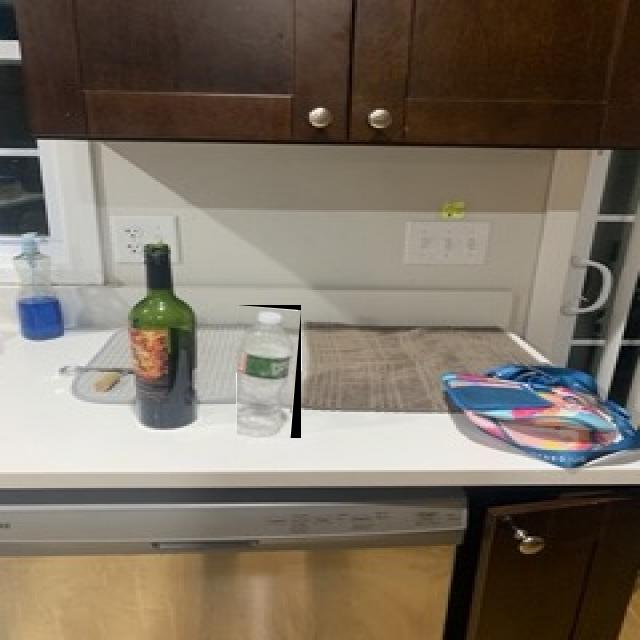water_bottle: (237, 305, 301, 438)
